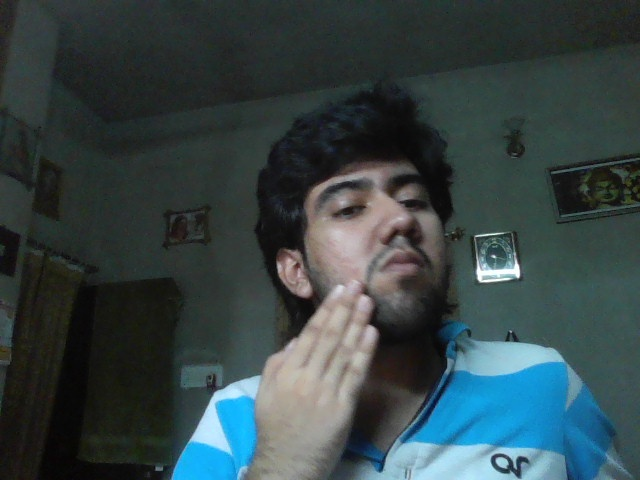ThankYou: (255, 280, 380, 480)
